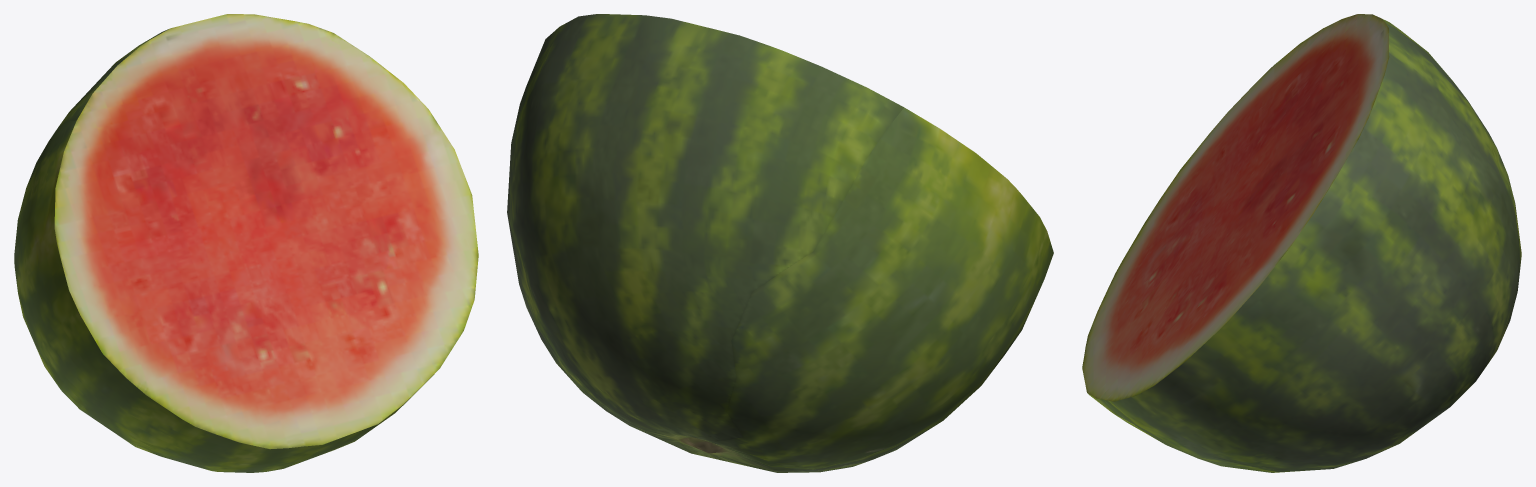
File: WatermelonHalf.obj
3 renders of one model, left to right at view 1: azimuth 30°, elevation 25°; view 2: azimuth 150°, elevation 25°; view 3: azimuth 270°, elevation 25°, orthographic. The views are drawn at different scales.
Visible parts, largest first — view 1: xigua; view 2: xigua; view 3: xigua.
Boxes of the visible parts, x1=… form: xigua: x1=14, y1=14, x2=478, y2=472; xigua: x1=507, y1=14, x2=1053, y2=472; xigua: x1=1082, y1=14, x2=1521, y2=472.
Bounding box in the file's own units: 1.83 × 1.68 × 1.61.
